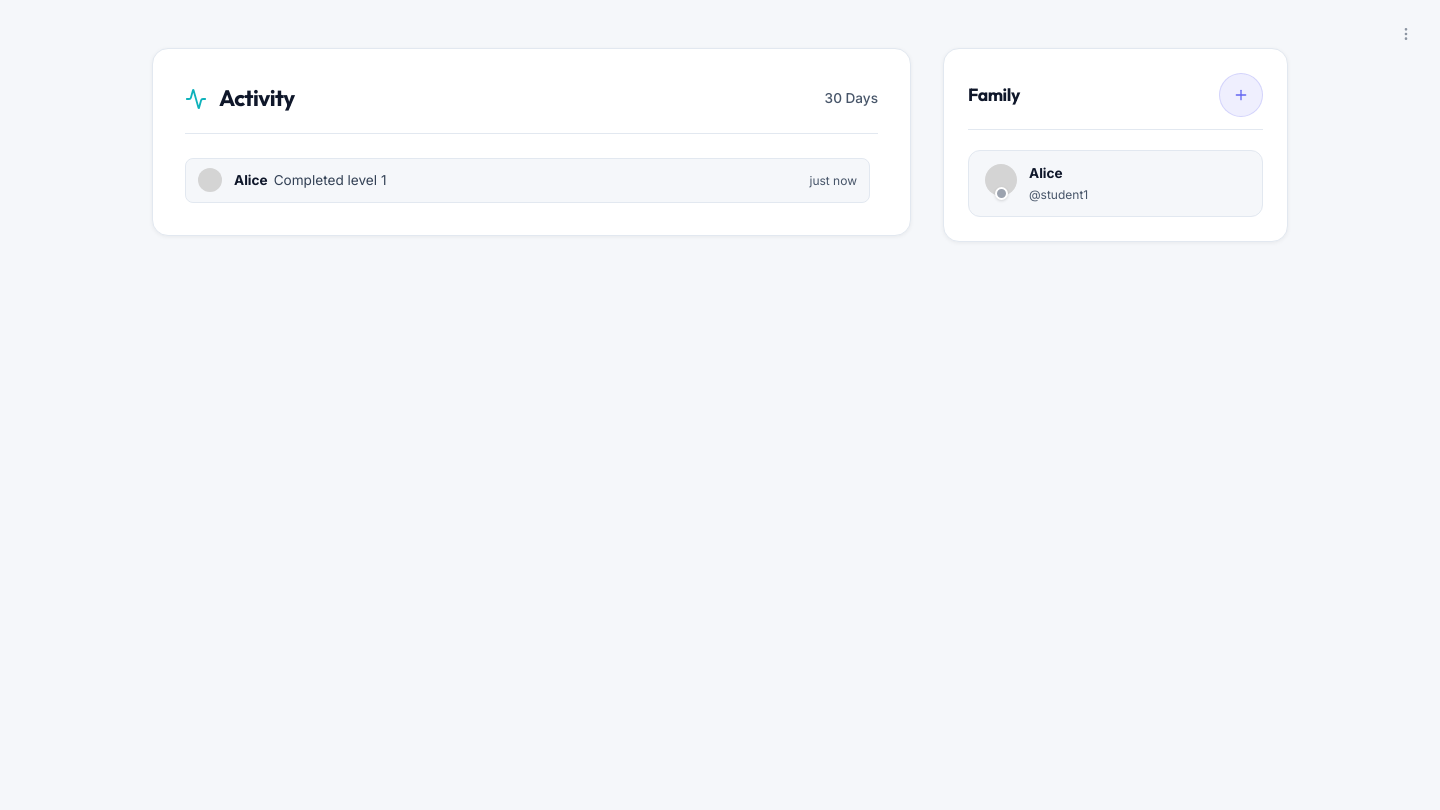
ParentDashboard Component › keyboard and screen reader access › closes the options menu on a press outside it
Click the button named "Options for Alice".
click(1406, 34)  # box 1384,12 -> 1428,56
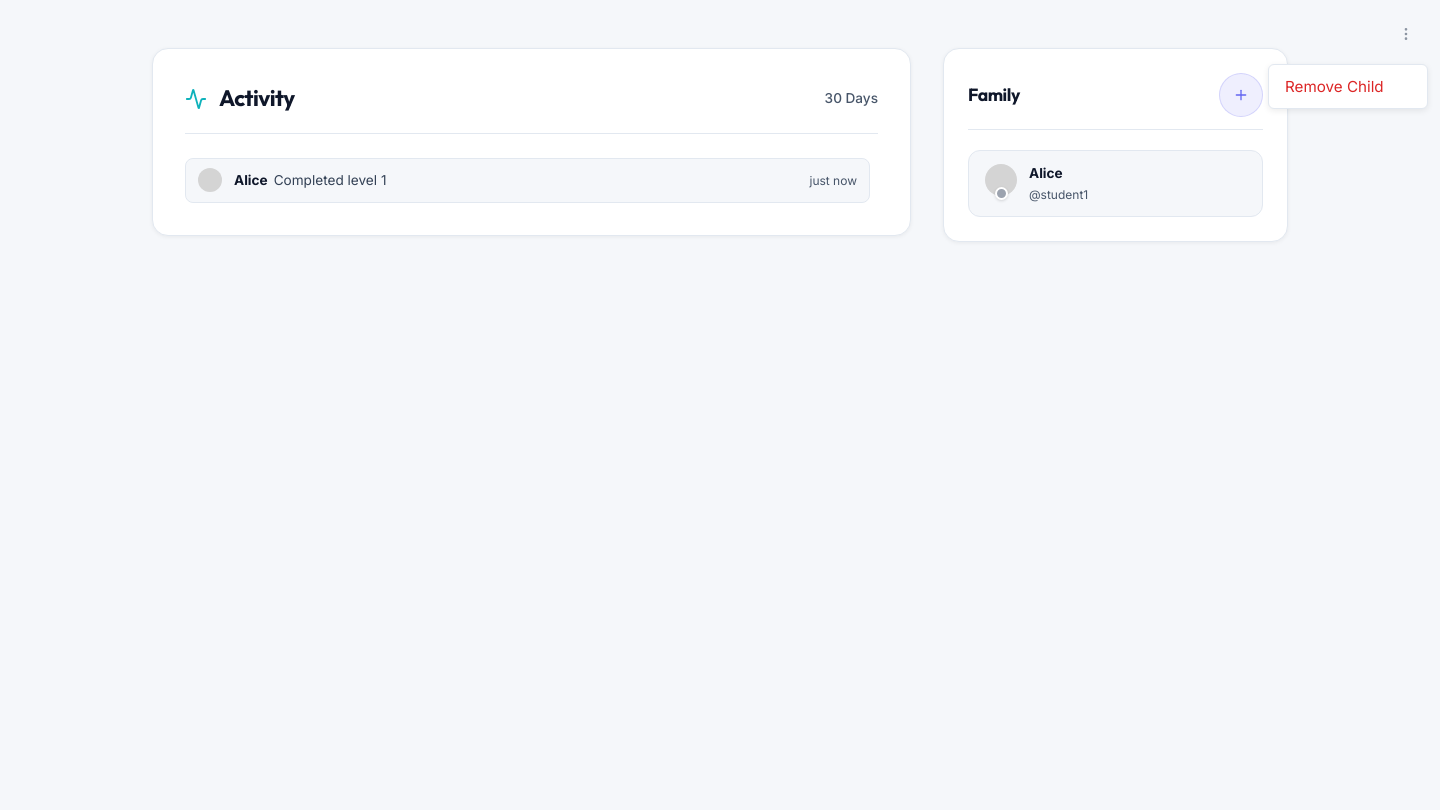
Check: the element with class "child-menu-dropdown" is shown, box 1268,64 -> 1428,109
Press the mouse on the element that starts with "Activity" at (720, 405), box 0,0 -> 1439,809
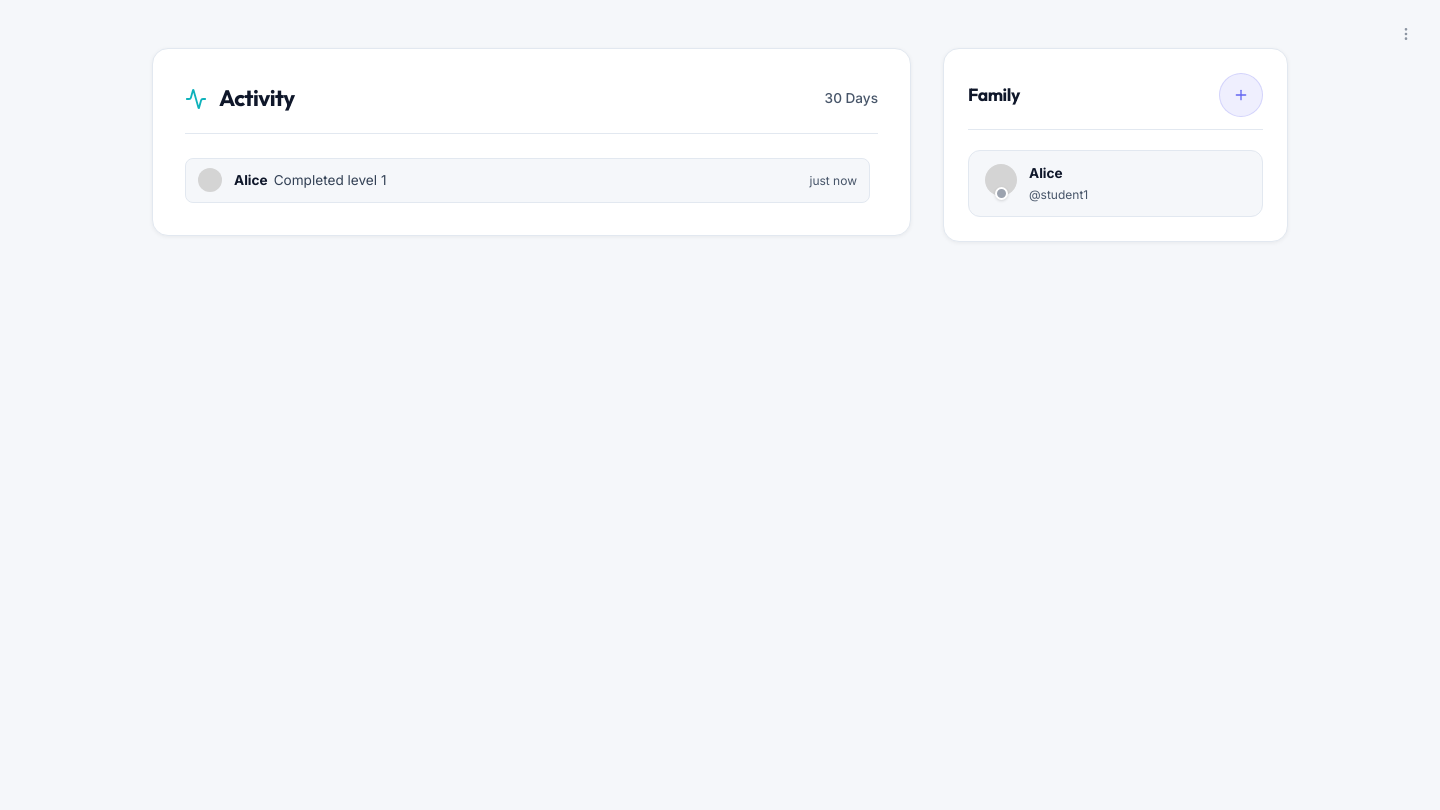
Check: the element with class "child-menu-dropdown" is gone
